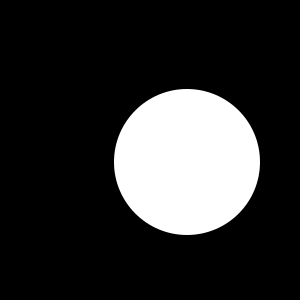rectangle: (114, 89, 260, 235)
